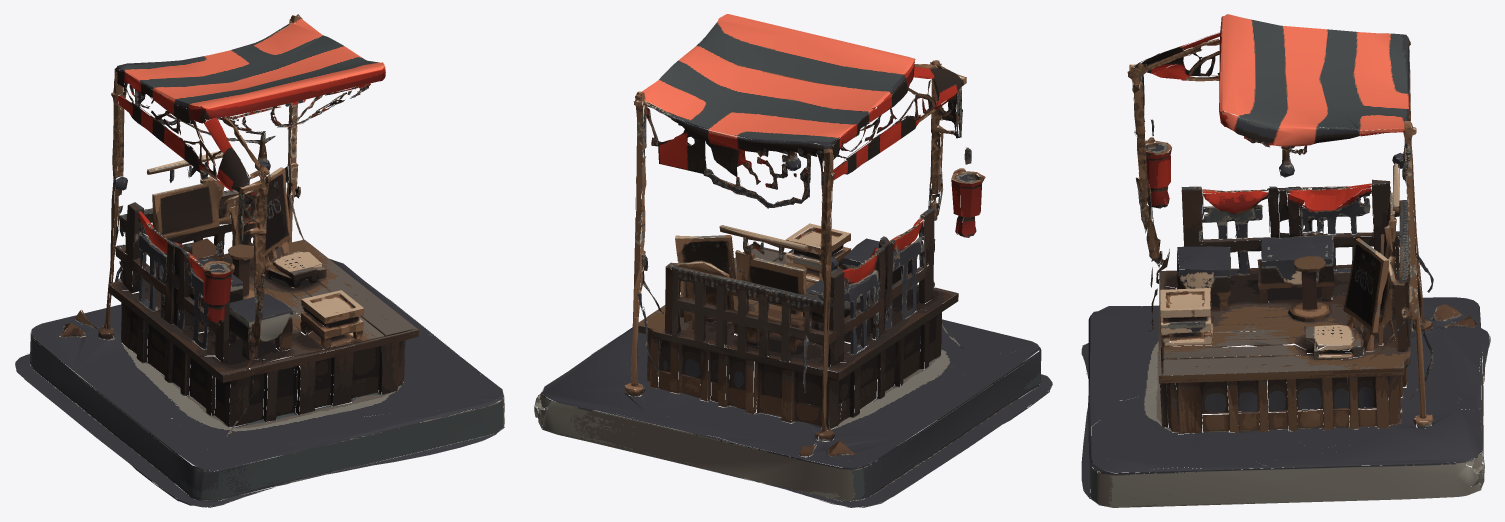
The model's file is auction.glb.
3 views of the same model, side by side, from view 1: azimuth 30°, elevation 25°; view 2: azimuth 150°, elevation 25°; view 3: azimuth 270°, elevation 25° (orthographic). The views are drawn at different scales.
Visible parts, largest first — view 1: auction; view 2: auction; view 3: auction.
Boxes of the visible parts, x1,y1,x2,y2 form: auction: (15,14,504,507); auction: (534,14,1052,507); auction: (1081,14,1490,507).
Bounding box in the file's own units: 2.6 × 2.56 × 2.6.
Materials: 1 (1 with a texture image).
